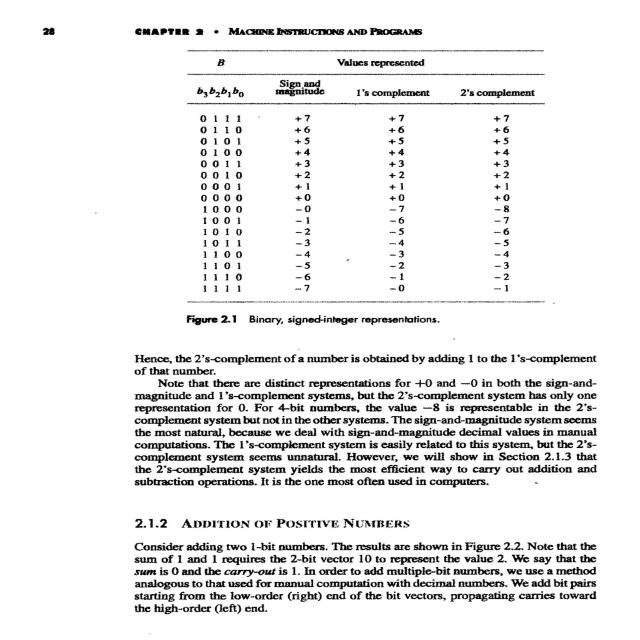diagram: (180, 45, 578, 336)
